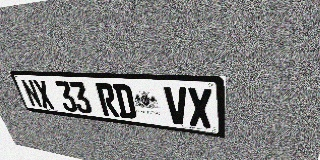3: (54, 81, 79, 112), (69, 82, 93, 114)
D: (112, 84, 137, 119)
N: (20, 79, 43, 108)
R: (95, 83, 120, 117)
V: (164, 86, 189, 126)
X: (187, 88, 212, 129), (32, 80, 55, 110)
